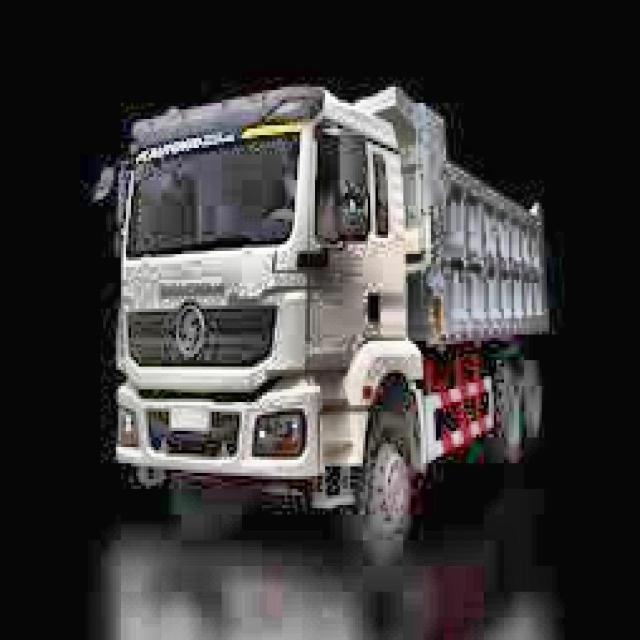dump_truck: (96, 82, 550, 542)
